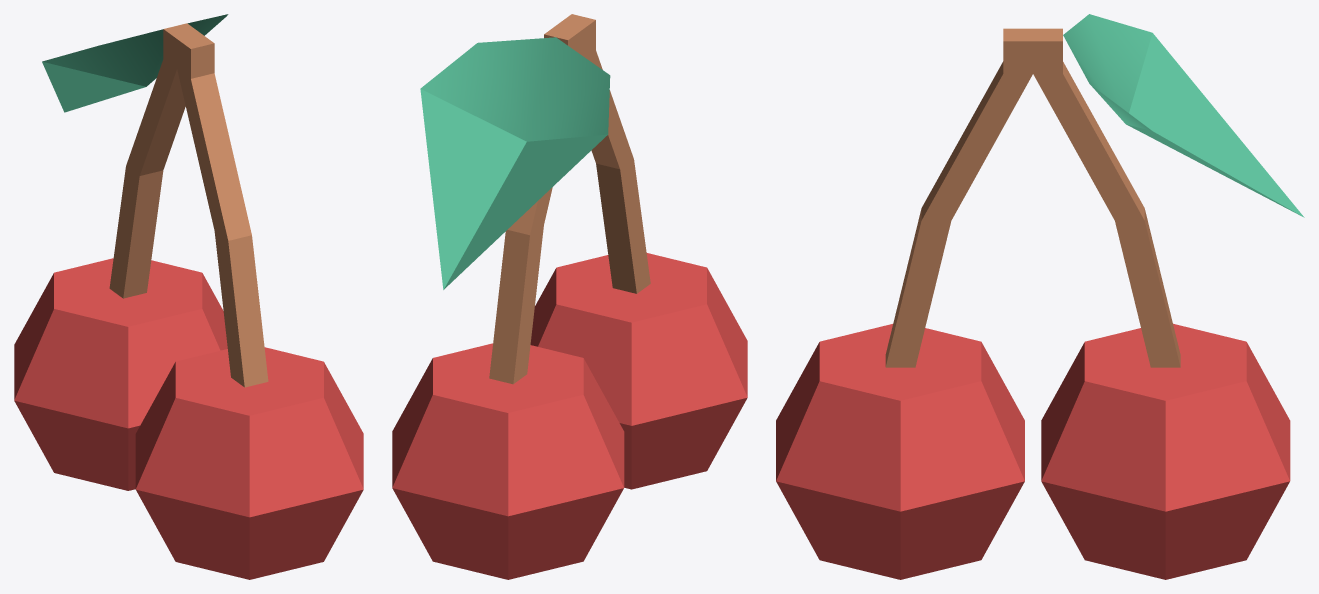
The model's file is cherries.fbx.
3 views of the same model, side by side, from view 1: azimuth 30°, elevation 25°; view 2: azimuth 150°, elevation 25°; view 3: azimuth 270°, elevation 25° (orthographic). The views are drawn at different scales.
Parts seen in each view (by area): view 1: cherries; view 2: cherries; view 3: cherries.
Part boxes in pixels (box(x1,y1,x2,y2)): cherries: box(14, 14, 363, 579); cherries: box(392, 14, 747, 579); cherries: box(776, 14, 1304, 579).
Bounding box in the file's own units: 0.88 × 1.71 × 1.62.
